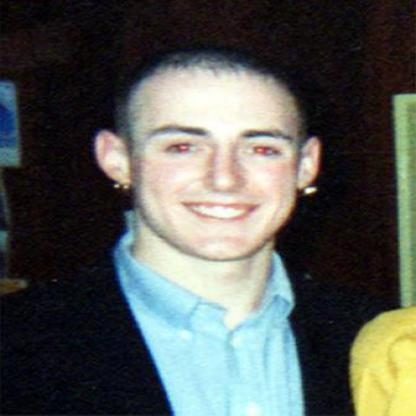face: (129, 52, 305, 264)
